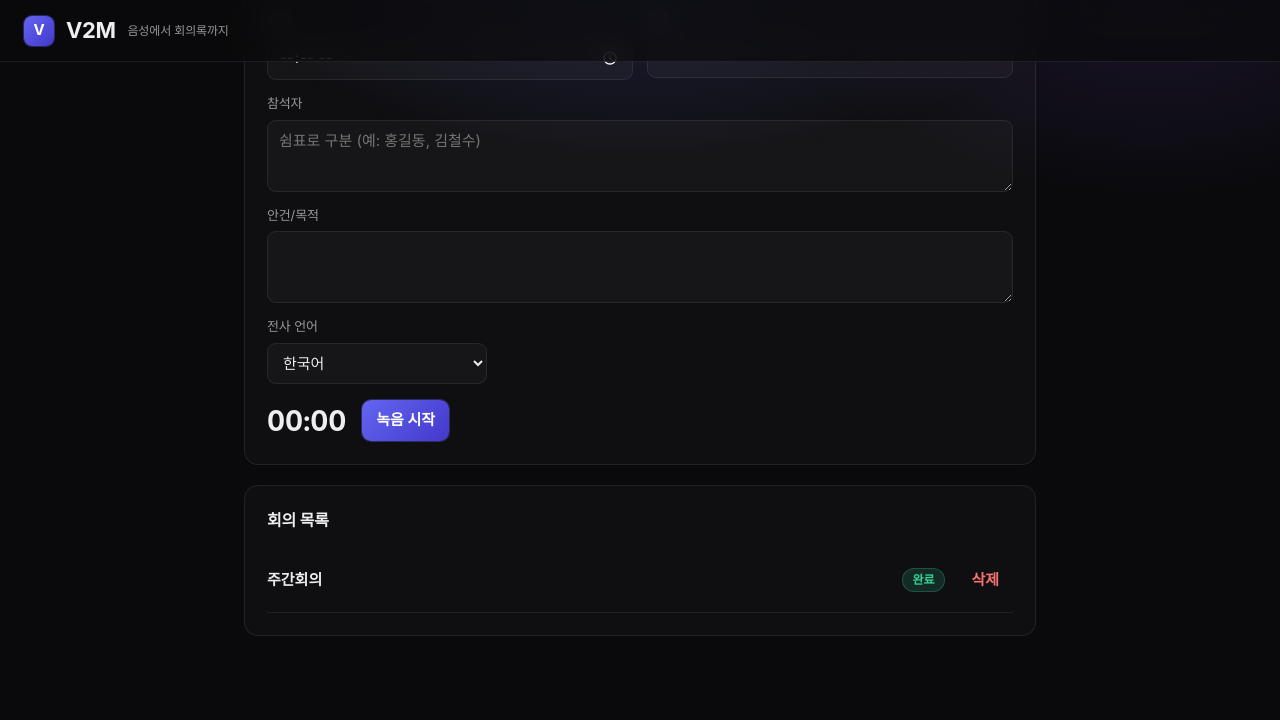
Scenario: App › reports a failed delete instead of leaving the row silently in place
(page scrolled)
Check: the button "주간회의" is shown, box left=263, top=560, right=894, bottom=599
What coordinates should you click on to do the following:
click the button with aria-label "주간회의 삭제"
I would click on:
 (985, 580)
Its box is left=957, top=560, right=1013, bottom=600.
(page scrolled)
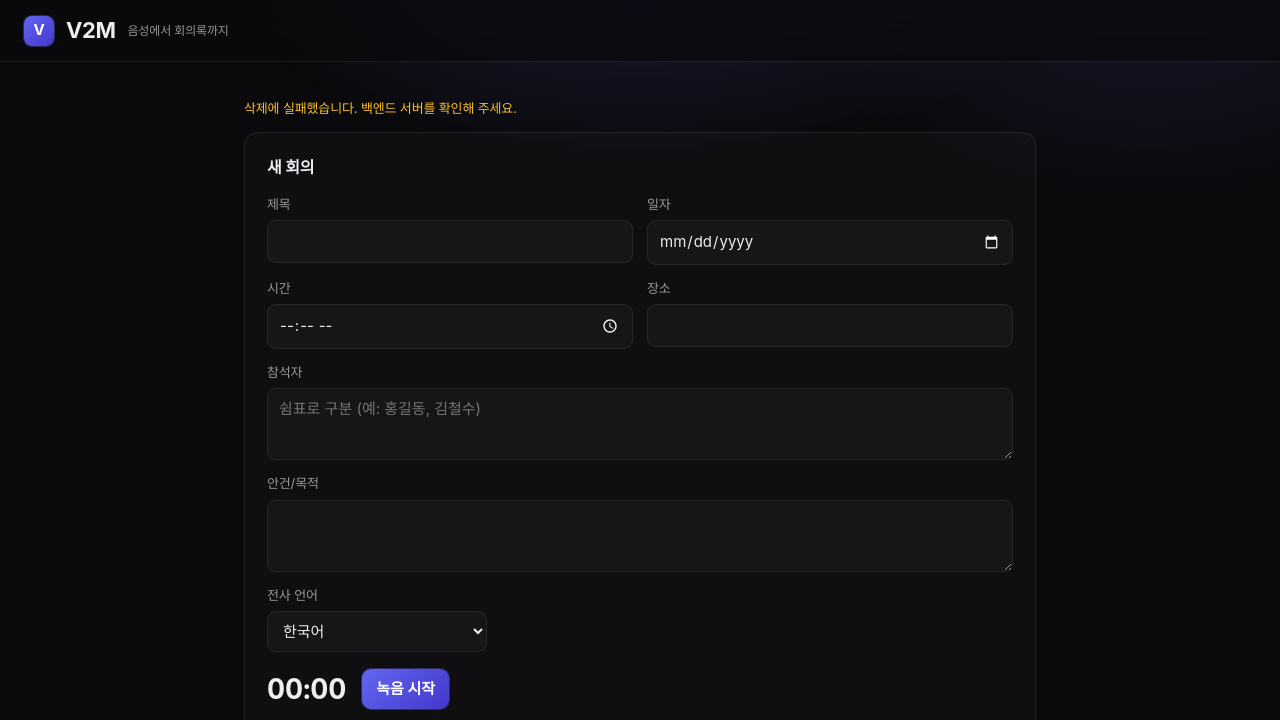
Check: the text "삭제에 실패했습니다. 백엔드 서버를 확인해 주세요." is shown, box left=244, top=100, right=517, bottom=116
